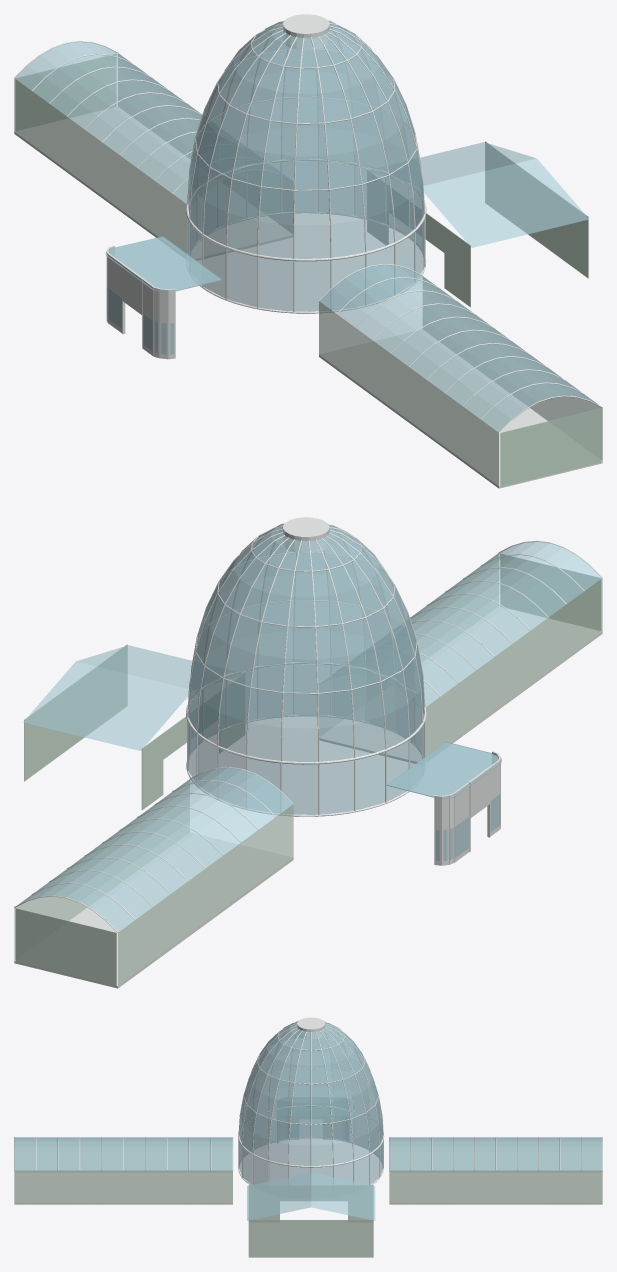
Rendered from Conservatory_Architectural_Study_LOD1.glb.
3 renders of one model, top to bottom at view 1: azimuth 30°, elevation 25°; view 2: azimuth 150°, elevation 25°; view 3: azimuth 270°, elevation 25°, orthographic. The views are drawn at different scales.
Visible parts, largest first — view 1: PalmHouse/DomeGlazing__glass, Wings/CurvedRoofGlass__glass, Wings/SillRails__steel, Wings/SideGlass__greenGlass, PalmHouse/DrumGlass__glass, ShowHouse/SlopedRoofGlass__glass, Wings/EndGlazing__greenGlass, ShowHouse/EndGlazing__greenGlass, PalmHouse/DomeRadialRibs__steel, Vestibule/WestFacadePiers__steel, Vestibule/TransparentRoof__glass, Wings/CurvedRoofRibs__steel (+7 smaller); view 2: PalmHouse/DomeGlazing__glass, Wings/CurvedRoofGlass__glass, Wings/SillRails__steel, Wings/SideGlass__greenGlass, PalmHouse/DrumGlass__glass, ShowHouse/SlopedRoofGlass__glass, Wings/EndGlazing__greenGlass, ShowHouse/EndGlazing__greenGlass, PalmHouse/DomeRadialRibs__steel, Vestibule/TransparentRoof__glass, Wings/CurvedRoofRibs__steel, Vestibule/WestFacadePiers__steel (+7 smaller); view 3: Wings/SideGlass__greenGlass, PalmHouse/DomeGlazing__glass, Wings/CurvedRoofGlass__glass, Wings/SillRails__steel, ShowHouse/EndGlazing__greenGlass, PalmHouse/DrumGlass__glass, ShowHouse/SlopedRoofGlass__glass, PalmHouse/DomeRadialRibs__steel, Wings/CurvedRoofRibs__steel, Vestibule/WestFacadePiers__steel, PalmHouse/DomeHorizontalRings__steel, PalmHouse/DrumFrames__steel (+2 smaller).
Part boxes in pixels (<box>): PalmHouse/DomeGlazing__glass: <box>188,21,424,258</box>; Wings/CurvedRoofGlass__glass: <box>15,41,598,432</box>; Wings/SillRails__steel: <box>14,106,602,488</box>; Wings/SideGlass__greenGlass: <box>14,53,602,485</box>; PalmHouse/DrumGlass__glass: <box>188,161,424,311</box>; ShowHouse/SlopedRoofGlass__glass: <box>420,142,588,247</box>; Wings/EndGlazing__greenGlass: <box>16,54,601,487</box>; ShowHouse/EndGlazing__greenGlass: <box>367,141,588,307</box>; PalmHouse/DomeRadialRibs__steel: <box>187,20,425,258</box>; Vestibule/WestFacadePiers__steel: <box>106,245,175,359</box>; Vestibule/TransparentRoof__glass: <box>105,236,222,292</box>; Wings/CurvedRoofRibs__steel: <box>14,41,602,432</box>; PalmHouse/DomeGlazing__glass: <box>188,524,424,761</box>; Wings/CurvedRoofGlass__glass: <box>18,541,601,931</box>; Wings/SillRails__steel: <box>14,606,602,988</box>; Wings/SideGlass__greenGlass: <box>14,553,602,985</box>; PalmHouse/DrumGlass__glass: <box>188,664,424,814</box>; ShowHouse/SlopedRoofGlass__glass: <box>23,645,192,750</box>; Wings/EndGlazing__greenGlass: <box>15,554,600,986</box>; ShowHouse/EndGlazing__greenGlass: <box>24,644,244,810</box>; PalmHouse/DomeRadialRibs__steel: <box>187,523,425,762</box>; Vestibule/TransparentRoof__glass: <box>387,742,501,799</box>; Wings/CurvedRoofRibs__steel: <box>14,540,602,932</box>; Vestibule/WestFacadePiers__steel: <box>434,751,500,865</box>; Wings/SideGlass__greenGlass: <box>14,1140,602,1203</box>; PalmHouse/DomeGlazing__glass: <box>239,1021,383,1165</box>; Wings/CurvedRoofGlass__glass: <box>14,1137,602,1170</box>; Wings/SillRails__steel: <box>14,1172,602,1204</box>; ShowHouse/EndGlazing__greenGlass: <box>248,1185,373,1257</box>; PalmHouse/DrumGlass__glass: <box>239,1107,383,1184</box>; ShowHouse/SlopedRoofGlass__glass: <box>247,1172,375,1220</box>; PalmHouse/DomeRadialRibs__steel: <box>238,1021,383,1166</box>; Wings/CurvedRoofRibs__steel: <box>14,1137,602,1170</box>; Vestibule/WestFacadePiers__steel: <box>277,1097,349,1142</box>; PalmHouse/DomeHorizontalRings__steel: <box>240,1023,382,1141</box>; PalmHouse/DrumFrames__steel: <box>238,1108,383,1184</box>.
Size of the model in its own units: 39.92 by 25.88 by 82.74.
